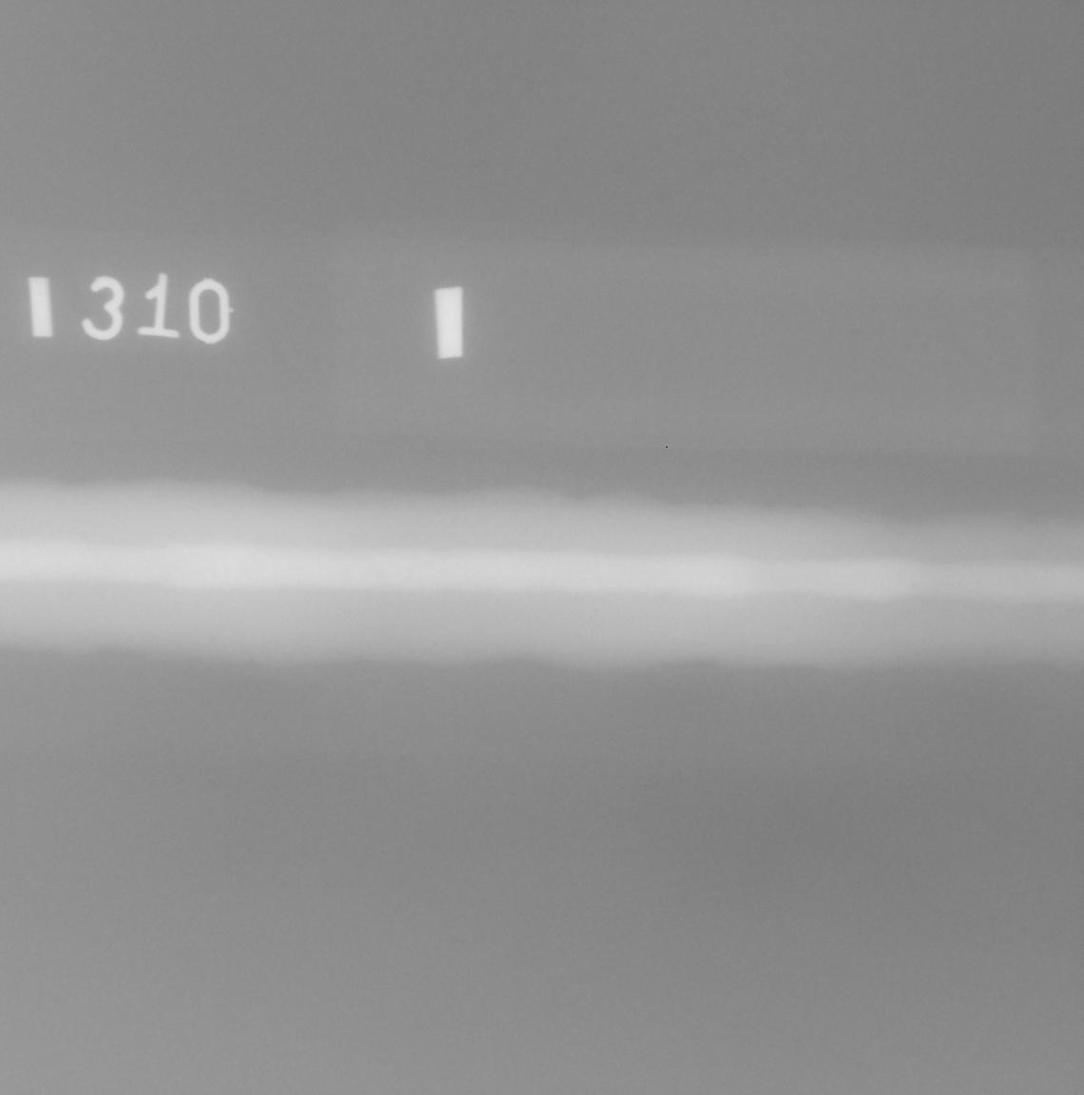Inclusion: (889, 636, 899, 640)
